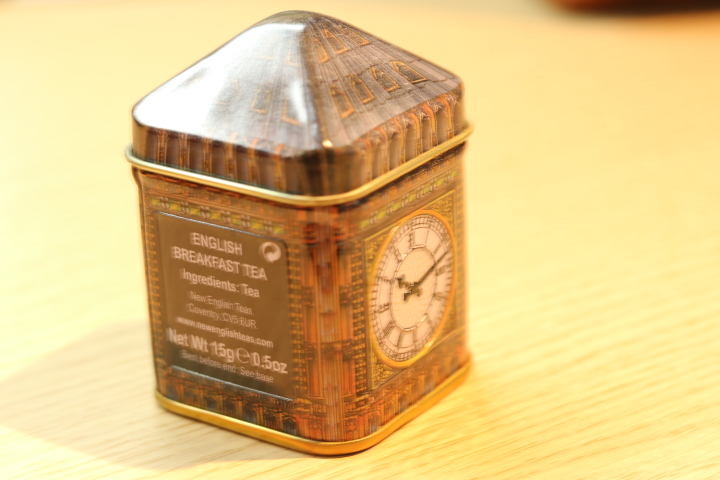Big Ben: (126, 4, 496, 462)
